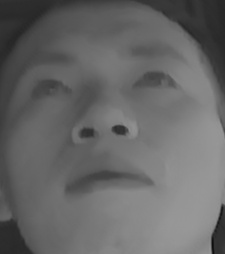eye: (25, 69, 75, 109), (129, 62, 179, 99)
mouth: (60, 156, 158, 202)
